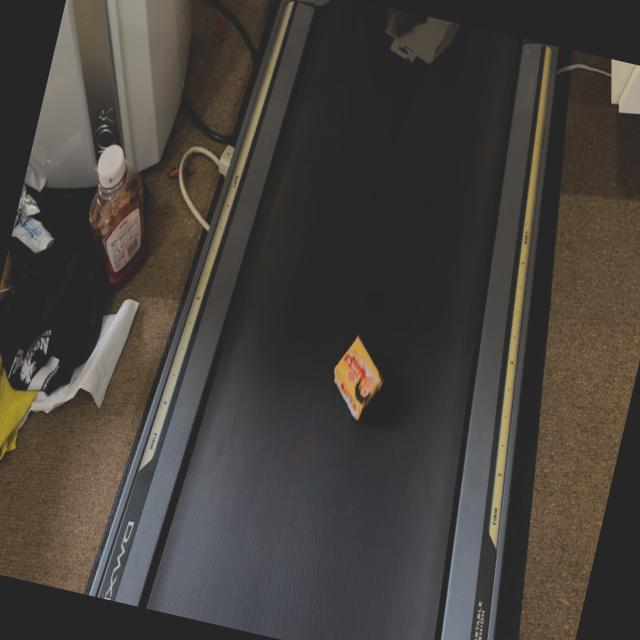Trash: (321, 329, 393, 429)
